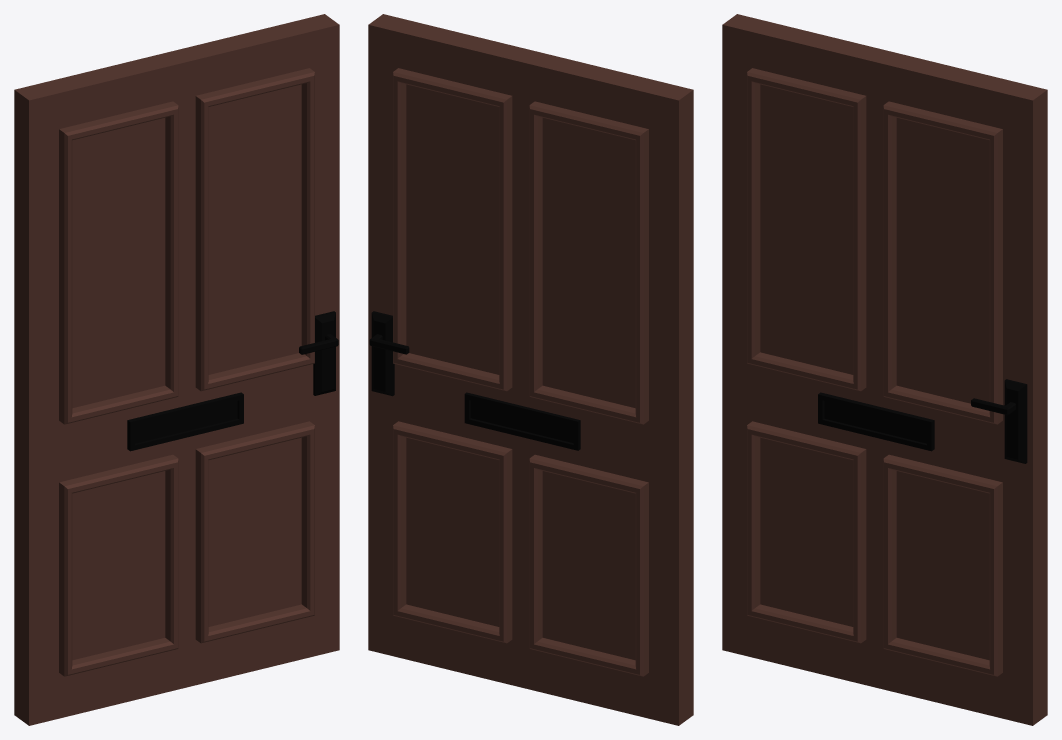
Rendered from front_door.fbx.
3 views of the same model, side by side, from view 1: azimuth 30°, elevation 25°; view 2: azimuth 150°, elevation 25°; view 3: azimuth 330°, elevation 25° (orthographic).
Visible parts, largest first — view 1: frontDoor; view 2: frontDoor; view 3: frontDoor.
Boxes of the visible parts, bbox=[...] form: frontDoor: bbox=[14, 14, 339, 725]; frontDoor: bbox=[368, 14, 693, 725]; frontDoor: bbox=[722, 14, 1047, 725].
Bounding box in the file's own units: 1.34 × 2.59 × 0.2892.
